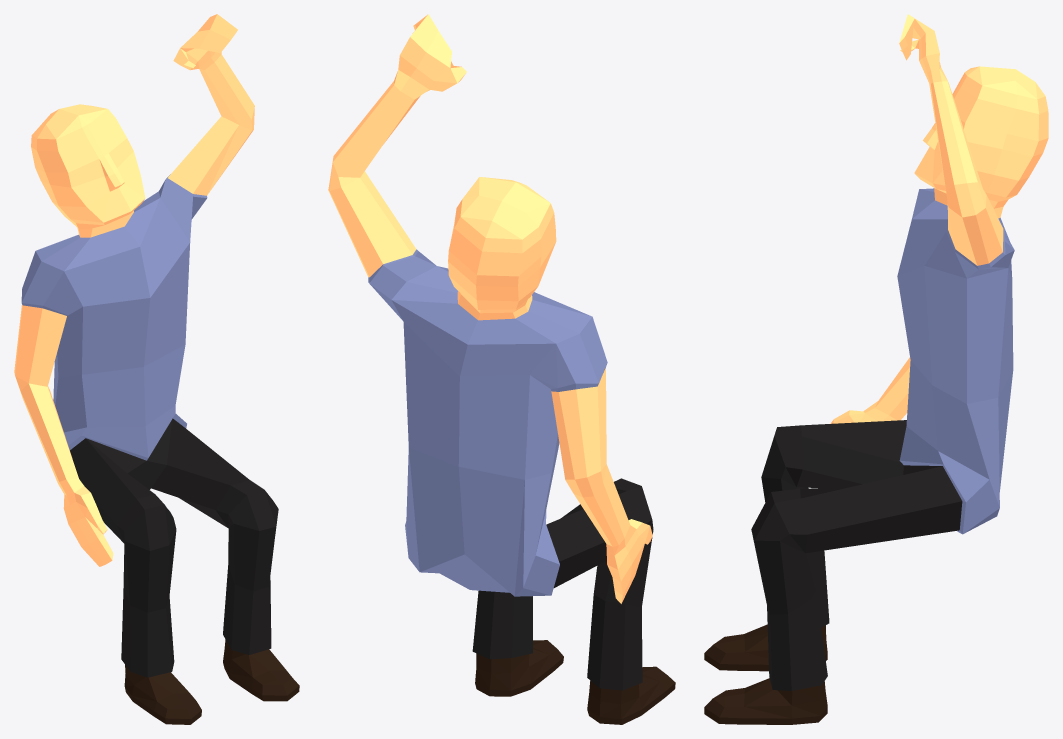
File: male_sitting_cheering.glb
3 views of the same model, side by side, from view 1: azimuth 30°, elevation 25°; view 2: azimuth 150°, elevation 25°; view 3: azimuth 270°, elevation 25° (orthographic). The views are drawn at different scales.
Visible parts, largest first — view 1: Male_Sitting_Cheering; view 2: Male_Sitting_Cheering; view 3: Male_Sitting_Cheering.
Boxes of the visible parts, box(x1,y1,x2,y2) form: Male_Sitting_Cheering: box(14, 14, 299, 724); Male_Sitting_Cheering: box(328, 14, 675, 724); Male_Sitting_Cheering: box(704, 14, 1048, 724).
Size of the model in its own units: 0.7412 by 1.85 by 0.8126.
